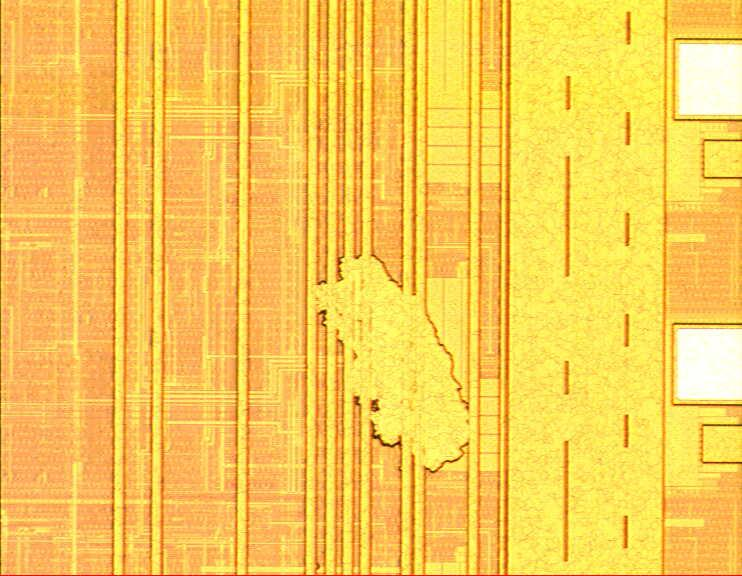BLOCK ETCH: (304, 249, 484, 482)
